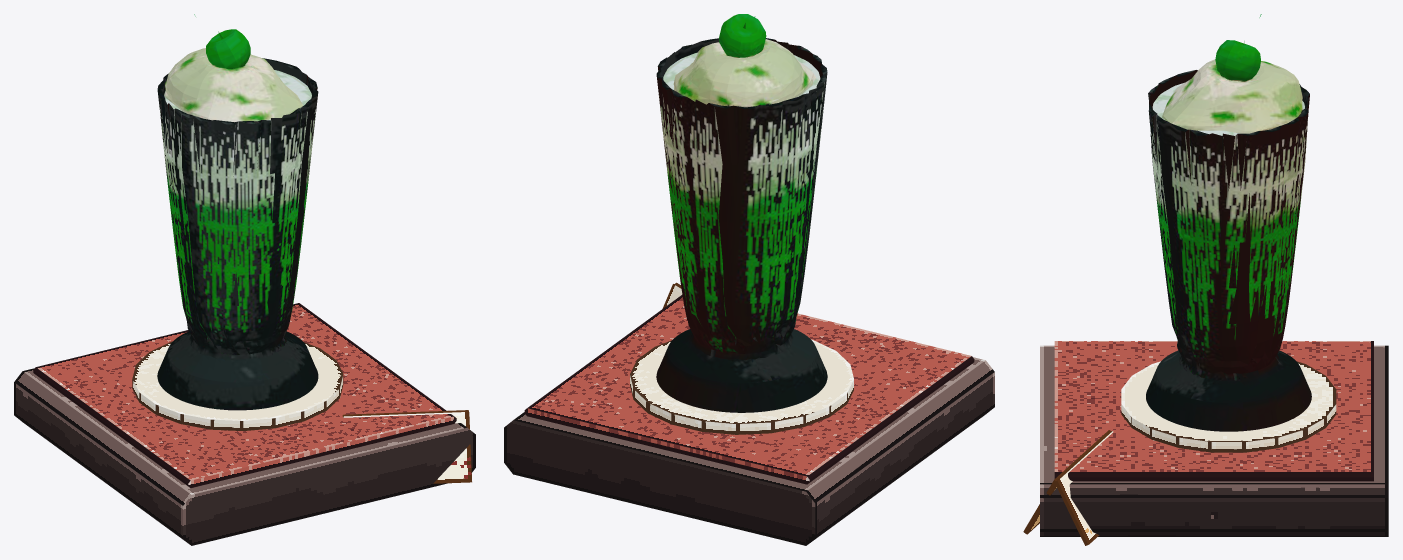
File: soda.glb
3 renders of one model, left to right at view 1: azimuth 30°, elevation 25°; view 2: azimuth 150°, elevation 25°; view 3: azimuth 270°, elevation 25°, orthographic. The views are drawn at different scales.
Parts seen in each view (by area): view 1: model_glass, base, felt, coaster, card1; view 2: model_glass, base, felt, coaster; view 3: model_glass, felt, base, coaster, card0, card1.
Part boxes in pixels (left/top/right/bottom): model_glass: left=157, top=14, right=318, bottom=410; base: left=14, top=368, right=475, bottom=545; felt: left=33, top=303, right=456, bottom=487; coaster: left=132, top=341, right=343, bottom=431; card1: left=343, top=412, right=471, bottom=483; model_glass: left=656, top=14, right=827, bottom=412; base: left=504, top=357, right=994, bottom=545; felt: left=524, top=295, right=974, bottom=484; coaster: left=630, top=339, right=853, bottom=434; model_glass: left=1146, top=14, right=1311, bottom=431; felt: left=1054, top=341, right=1373, bottom=481; base: left=1040, top=345, right=1388, bottom=536; coaster: left=1121, top=361, right=1336, bottom=452; card0: left=1055, top=431, right=1113, bottom=545; card1: left=1023, top=430, right=1110, bottom=534.
Bounding box in the file's own units: 25.12 × 33.4 × 25.15.
Materials: 2 (2 with a texture image).
